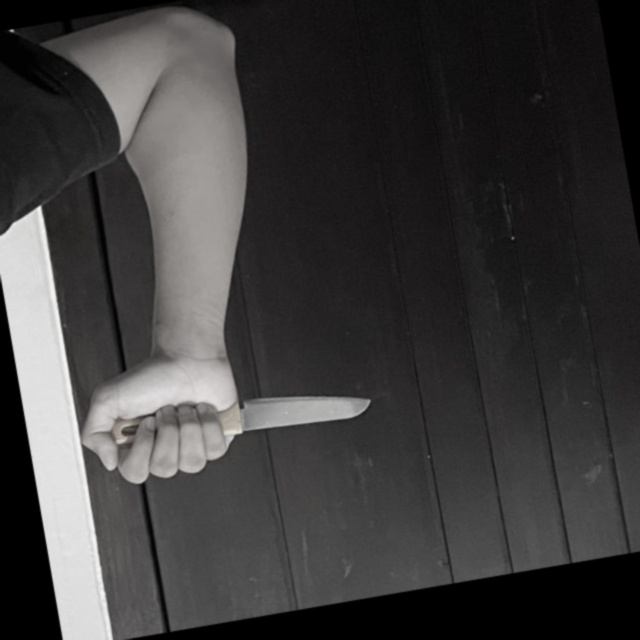Sharp-Object: (94, 372, 376, 465)
